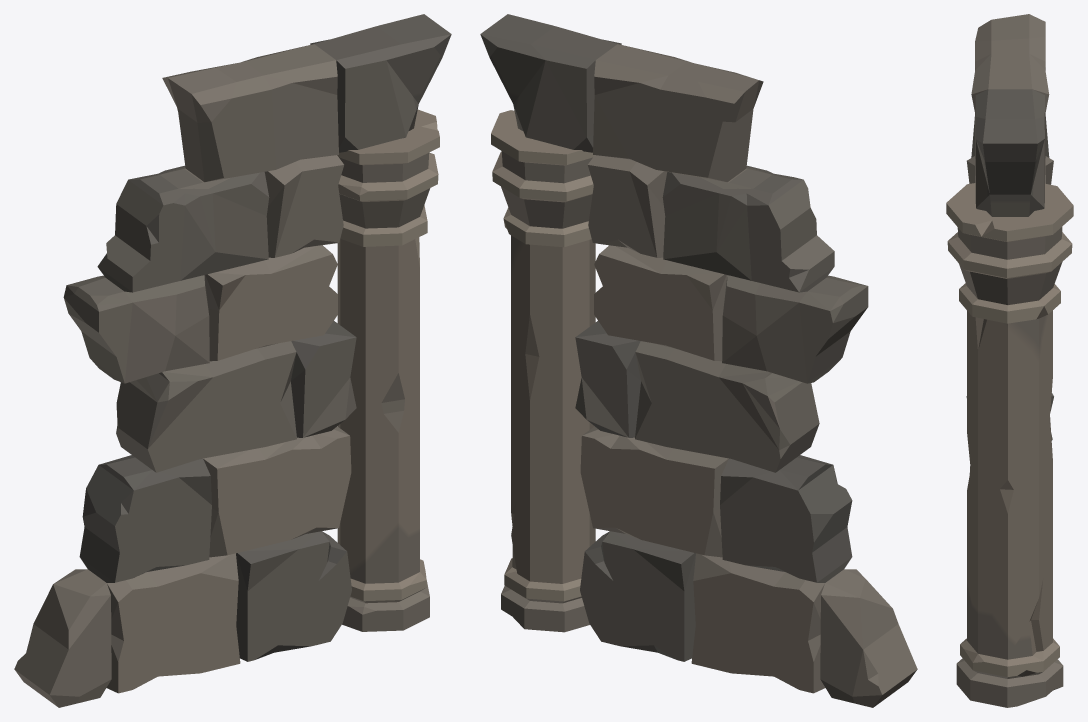
The model's file is bog_ruins_wall.gltf.
The picture shows the model from 3 angles, left to right: view 1: azimuth 30°, elevation 25°; view 2: azimuth 150°, elevation 25°; view 3: azimuth 270°, elevation 25°; orthographic projection.
Parts seen in each view (by area): view 1: bog_ruins_wall; view 2: bog_ruins_wall; view 3: bog_ruins_wall.
Boxes of the visible parts, x1,y1,x2,y2 form: bog_ruins_wall: (14, 14, 451, 707); bog_ruins_wall: (480, 14, 917, 707); bog_ruins_wall: (946, 14, 1073, 707).
Size of the model in its own units: 2.43 by 3.3 by 0.6632.
Materials: 1 (1 with a texture image).
